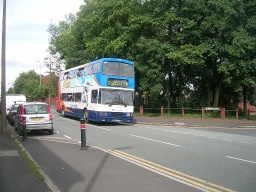bus: (57, 57, 137, 127)
